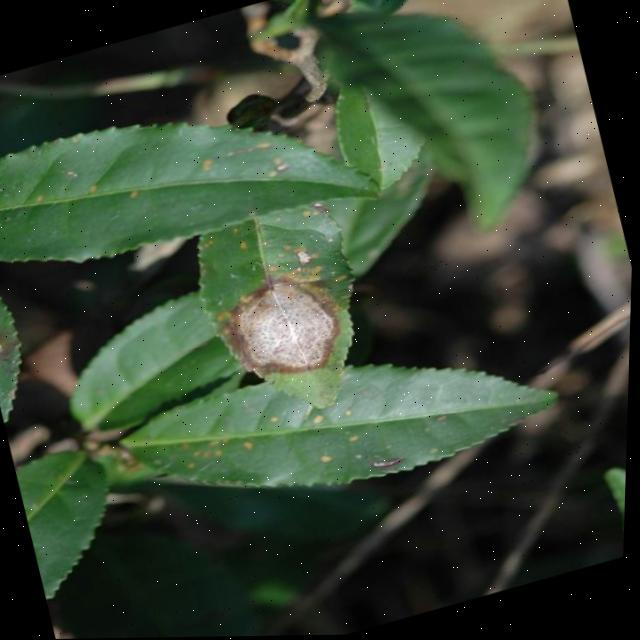Tea cloud leaf blight: (191, 229, 372, 408)
